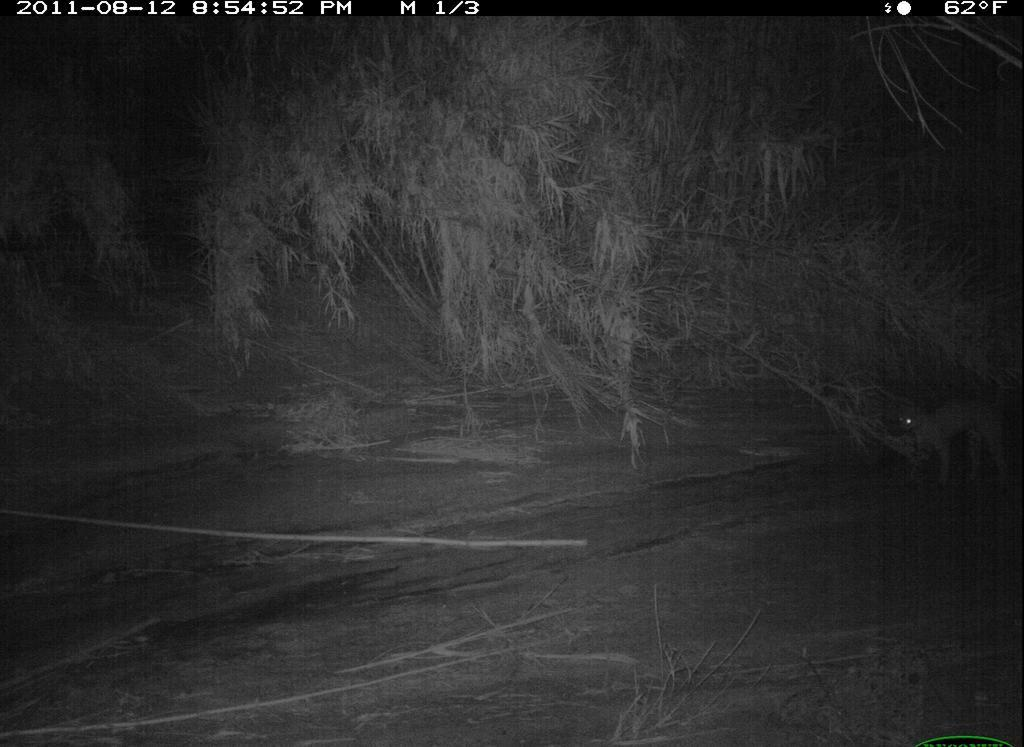bobcat: (876, 373, 1010, 491)
